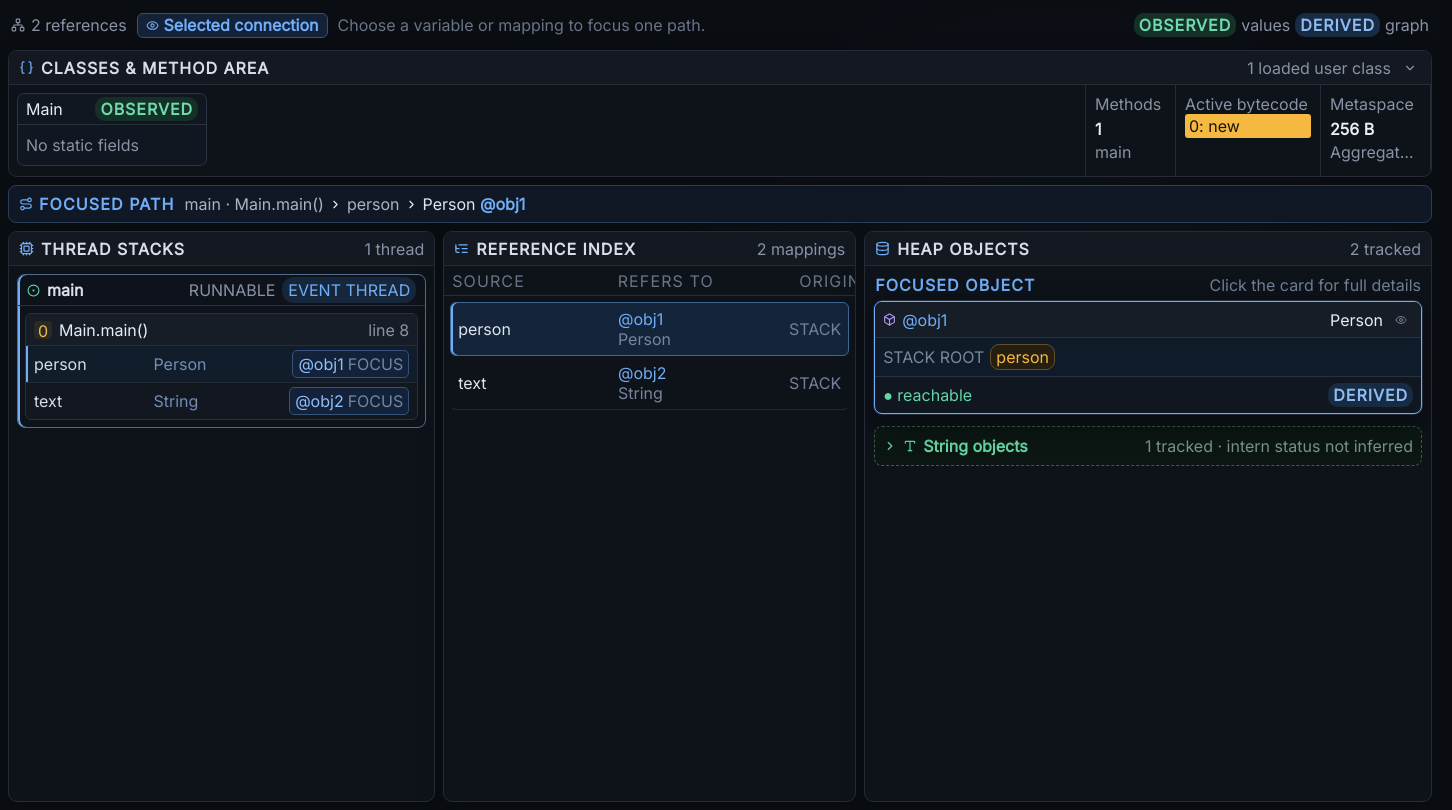
MemoryWorkspace › keeps the string subgroup collapsed until the learner opens it
The image size is (1452, 810).
What coordinates should you click on to do the following:
click the button "String objects 1 tracked · intern status not inferred"
I would click on:
 (1148, 446)
Its box is [875,427,1421,465].
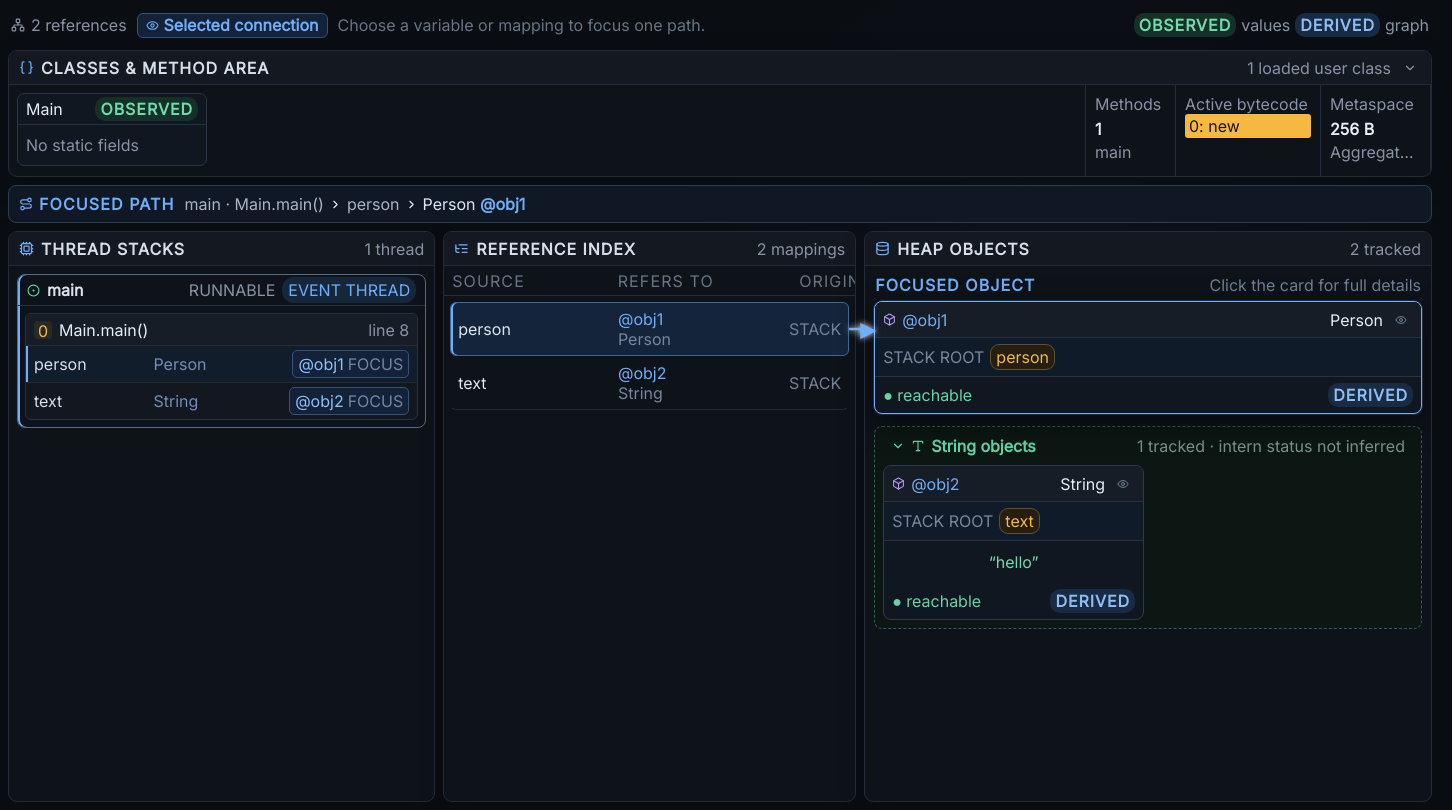
Now the button named "Inspect @obj2 String" is shown, box [1111,472,1135,496]
